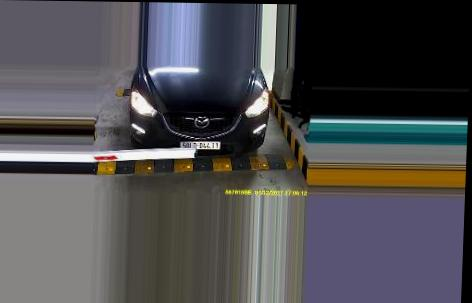License_Plate: (179, 139, 222, 151)
